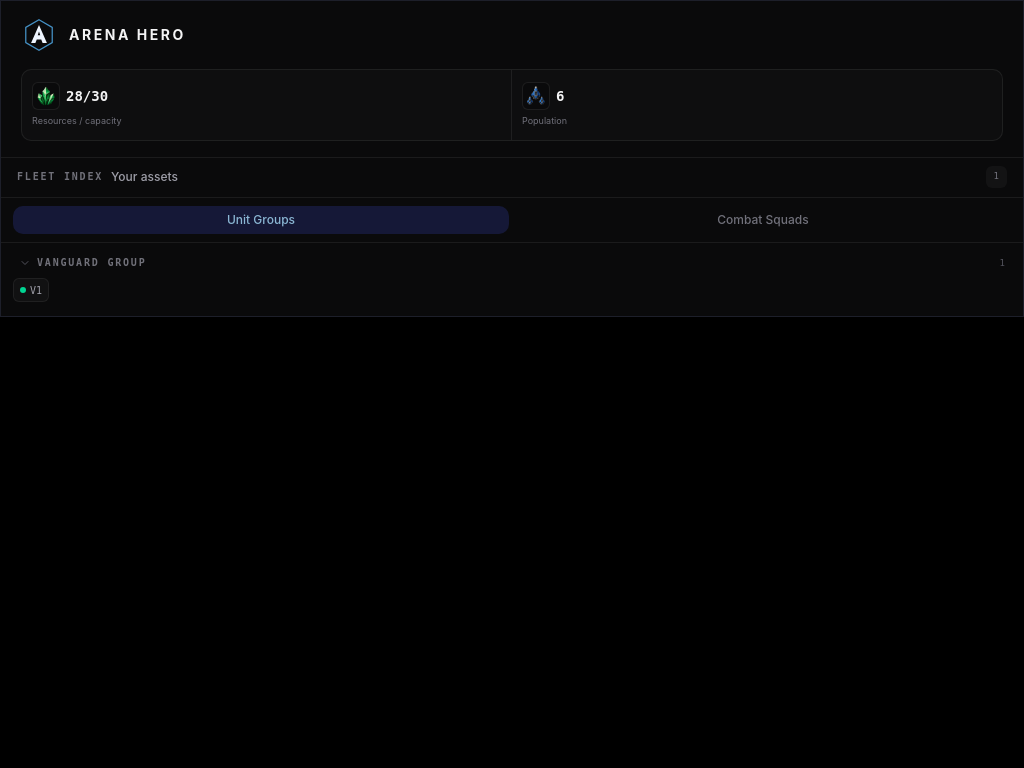
it: AssetList › squad settings › shows the empty queue hint without a clear button
Click the tab "Combat Squads" at (763, 220), box top-left (515, 206), bottom-right (1011, 234)
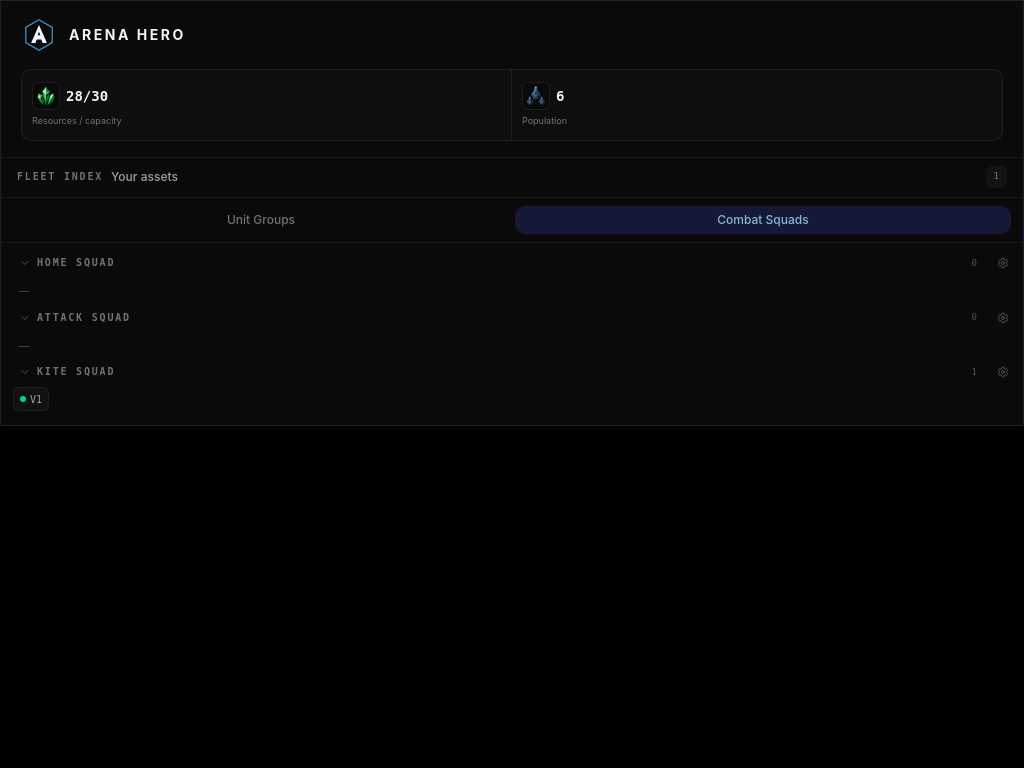
Click the button named "Settings · Kite Squad" at (1003, 372), box top-left (991, 360), bottom-right (1015, 384)
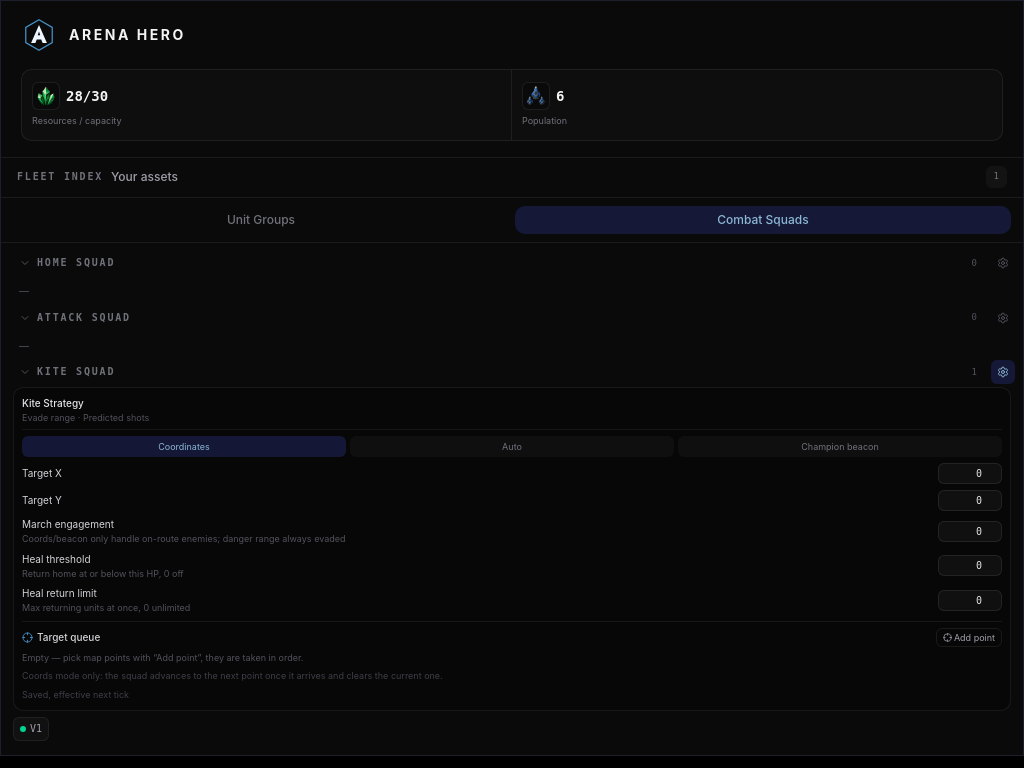
Check: the text "pick map points with" is shown, box top-left (22, 652), bottom-right (303, 663)
